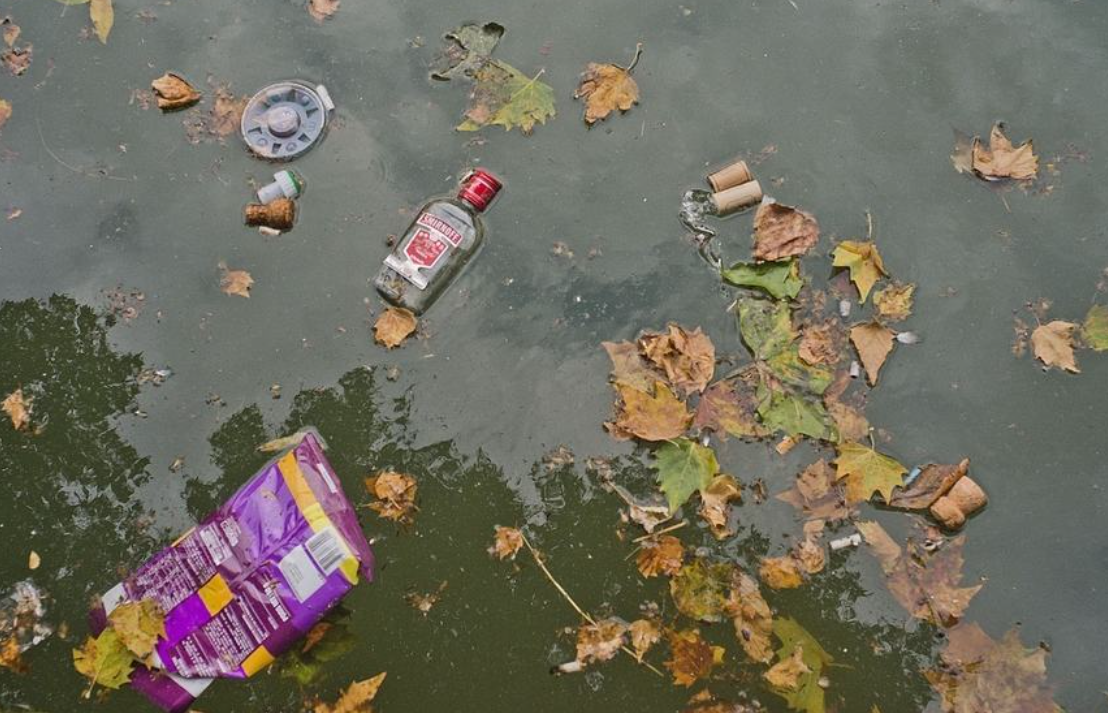garbage: (42, 419, 411, 699), (351, 156, 513, 314), (222, 51, 355, 175), (919, 462, 1003, 542), (695, 158, 783, 220)
